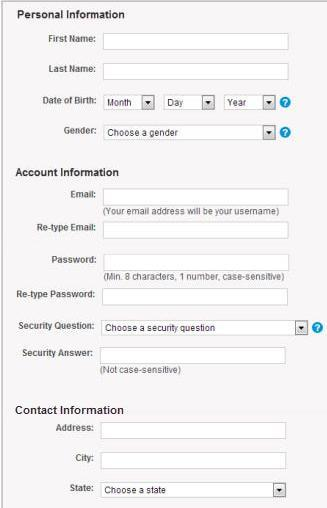dropdown: (100, 480, 290, 502), (100, 320, 312, 339), (105, 123, 276, 144), (163, 93, 218, 113), (223, 92, 278, 112), (102, 94, 157, 113)
input: (103, 252, 292, 275), (102, 219, 292, 241), (100, 420, 290, 442), (102, 286, 290, 308), (99, 450, 290, 471), (103, 62, 292, 83), (103, 188, 291, 209), (102, 32, 291, 52), (99, 346, 288, 366)
label: (17, 9, 126, 24), (14, 403, 126, 417), (15, 288, 96, 304), (12, 168, 122, 179), (17, 320, 96, 335), (21, 347, 95, 361), (35, 222, 99, 236), (42, 93, 97, 109), (51, 253, 99, 268), (47, 33, 98, 47), (48, 64, 98, 78), (55, 422, 94, 434), (64, 126, 99, 138), (67, 482, 96, 495), (69, 188, 97, 201), (74, 452, 95, 467)
